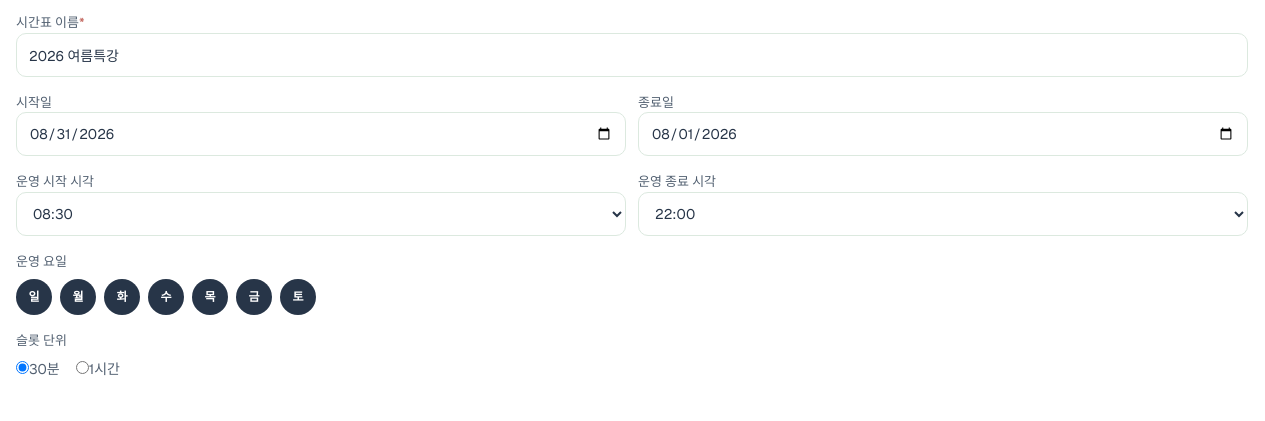
it: NewTimetableBasicInfoStep › 종료일이 시작일보다 빠르면 에러 메시지를 노출한다
Type "2026-07-01" into the date field labelled "종료일" at (943,134), box [638,112,1248,156]
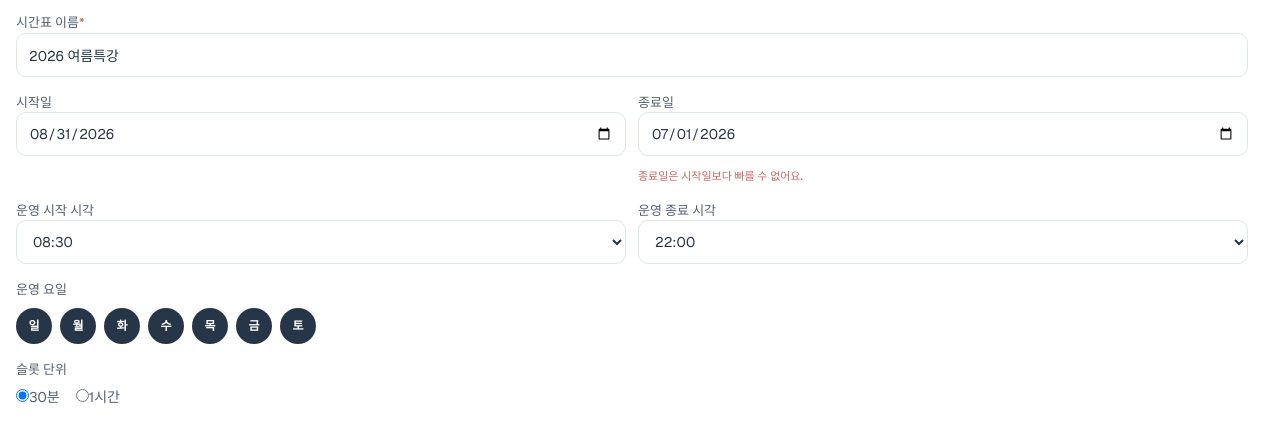
Check: the text "종료일은 시작일보다 빠를 수 없어요." is shown, box [638,169,803,183]
